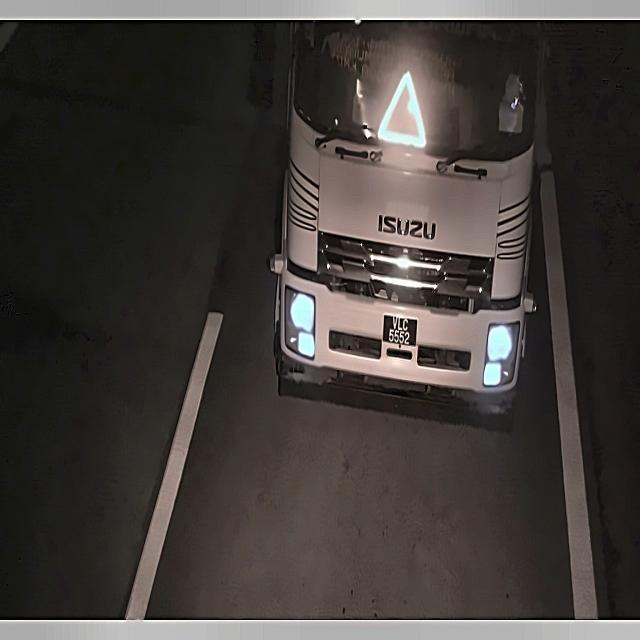car: (378, 311, 422, 350)
